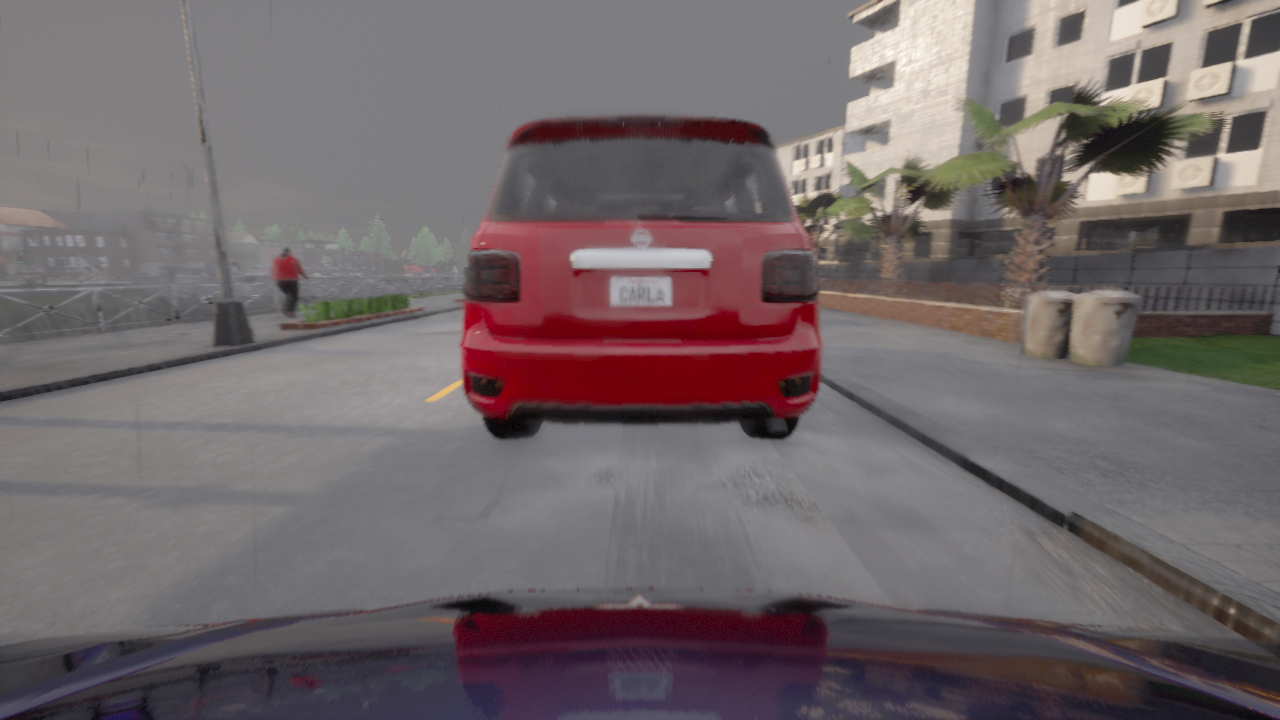cyclist: (0, 588, 1279, 719), (460, 115, 821, 438)
pedestrian: (271, 247, 309, 316)
